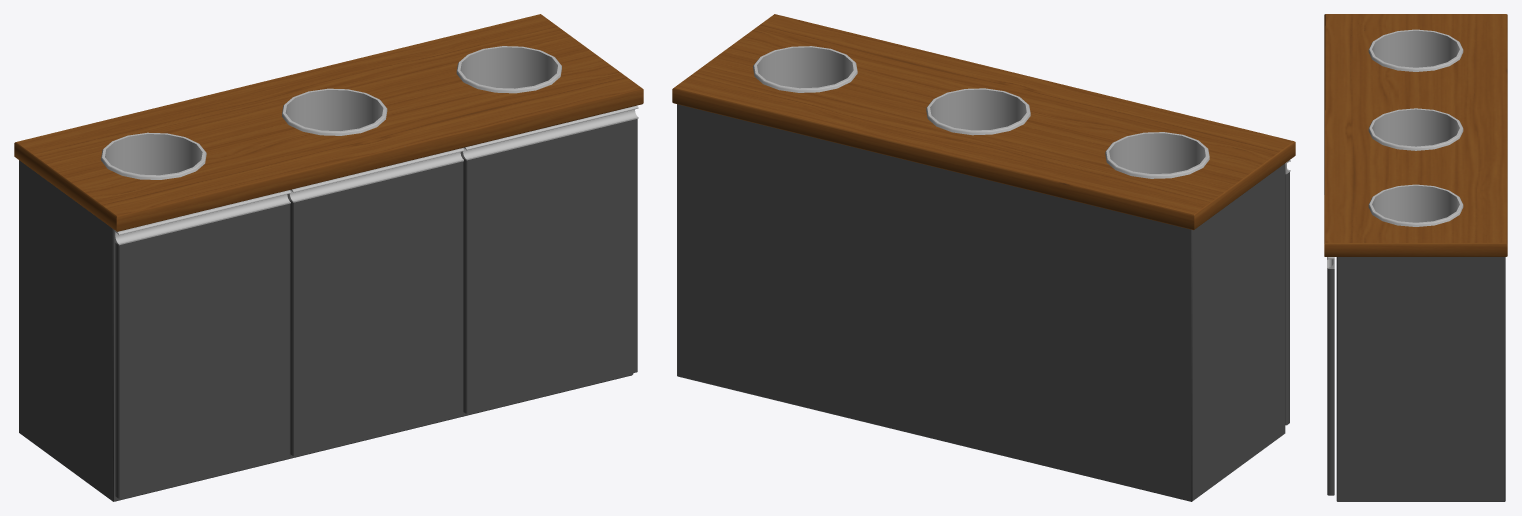
The model's file is LC_3132_GarbageCanD_LOD3.FBX.
The picture shows the model from 3 angles, left to right: view 1: azimuth 30°, elevation 25°; view 2: azimuth 150°, elevation 25°; view 3: azimuth 270°, elevation 25°; orthographic projection. The views are drawn at different scales.
Visible parts, largest first — view 1: LC_3132_GarbageCanD_LOD3; view 2: LC_3132_GarbageCanD_LOD3; view 3: LC_3132_GarbageCanD_LOD3.
Part boxes in pixels (x1=…): LC_3132_GarbageCanD_LOD3: x1=14, y1=14, x2=643, y2=501; LC_3132_GarbageCanD_LOD3: x1=672, y1=14, x2=1295, y2=501; LC_3132_GarbageCanD_LOD3: x1=1324, y1=14, x2=1507, y2=501.
Bounding box in the file's own units: 175 × 93.31 × 58.8.
Materials: 1 (1 with a texture image).
